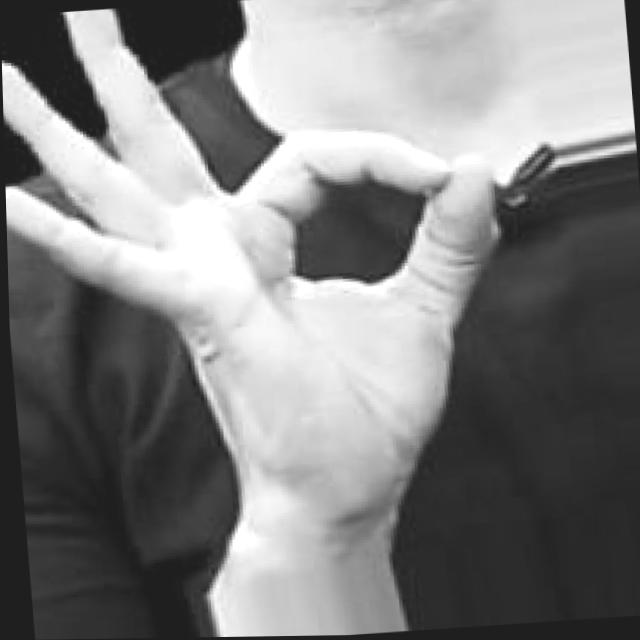O: (0, 0, 524, 539)
